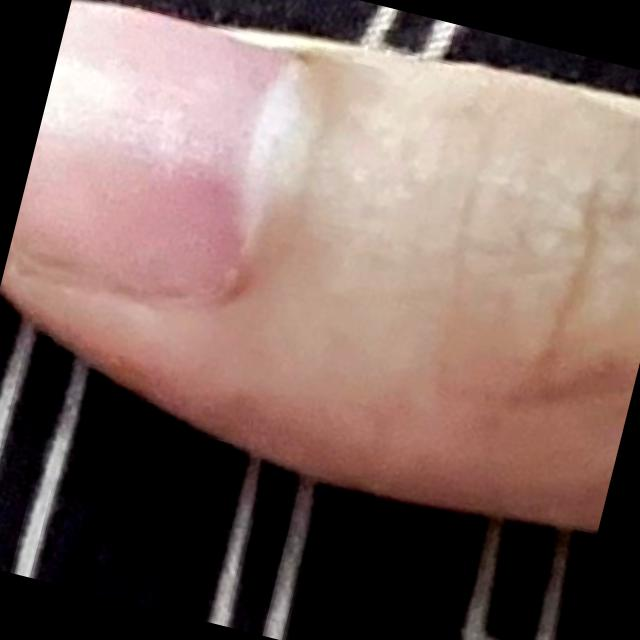Nail: (11, 2, 300, 299)
